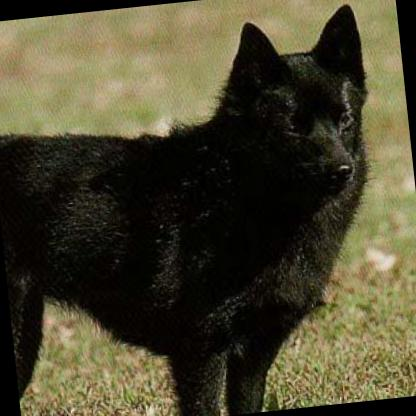schipperke: (0, 0, 405, 416)
